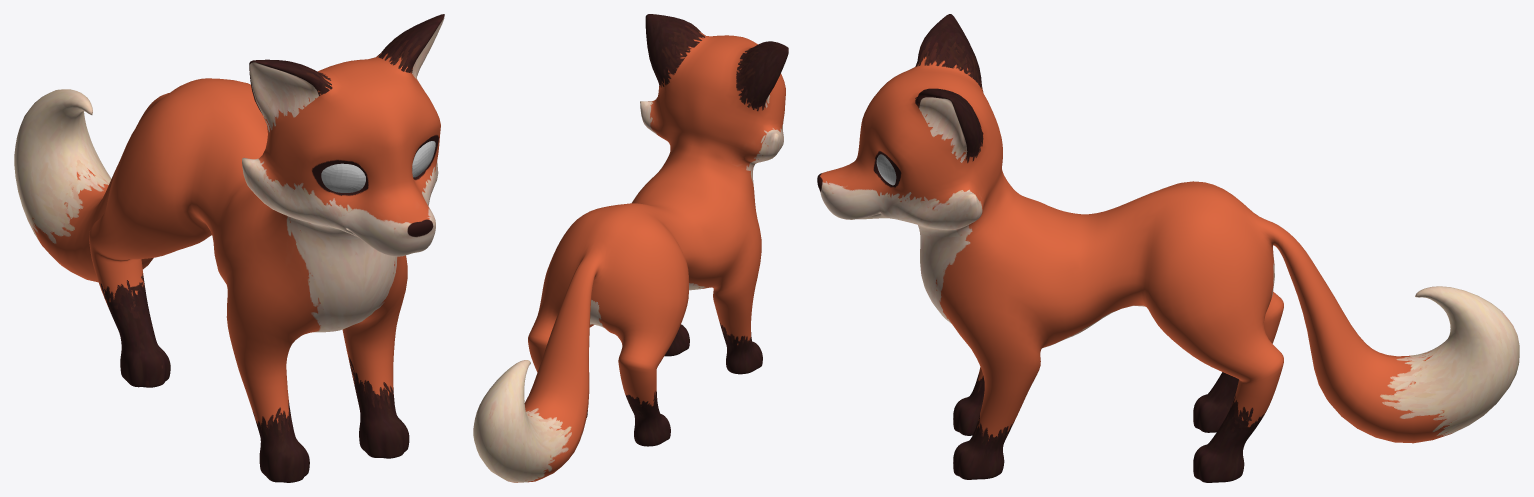
The model's file is RedFox.fbx.
3 views of the same model, side by side, from view 1: azimuth 30°, elevation 25°; view 2: azimuth 150°, elevation 25°; view 3: azimuth 270°, elevation 25° (orthographic). The views are drawn at different scales.
Parts seen in each view (by area): view 1: Fox, Eyes; view 2: Fox; view 3: Fox.
Boxes of the visible parts, x1,y1,x2,y2 form: Fox: (14,14,444,482); Eyes: (321,141,435,192); Fox: (473,14,788,482); Fox: (817,14,1519,482).
Bounding box in the file's own units: 70.36 × 150 × 242.
